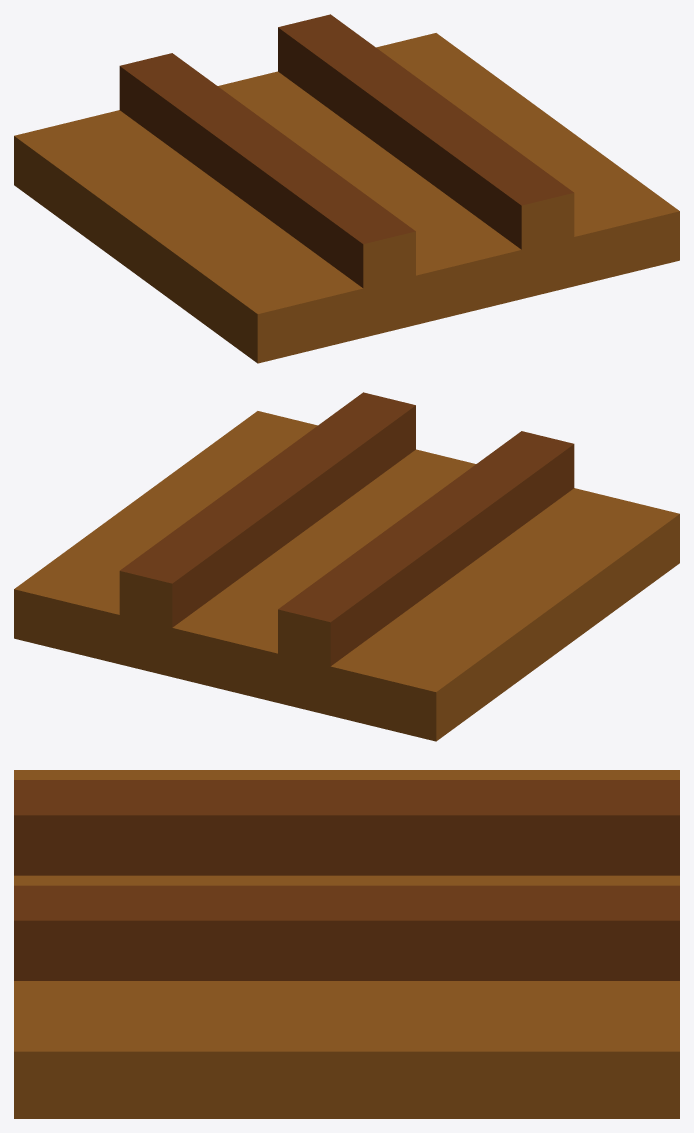
Rendered from BoxTop.fbx.
3 views of the same model, one above another, from view 1: azimuth 30°, elevation 25°; view 2: azimuth 150°, elevation 25°; view 3: azimuth 270°, elevation 25° (orthographic). The views are drawn at different scales.
Visible parts, largest first — view 1: Cube.001; view 2: Cube.001; view 3: Cube.001.
Part boxes in pixels (bbox=[...]): Cube.001: bbox=[14, 14, 679, 363]; Cube.001: bbox=[14, 392, 679, 741]; Cube.001: bbox=[14, 770, 679, 1118].
Bounding box in the file's own units: 200 × 42.35 × 200.
